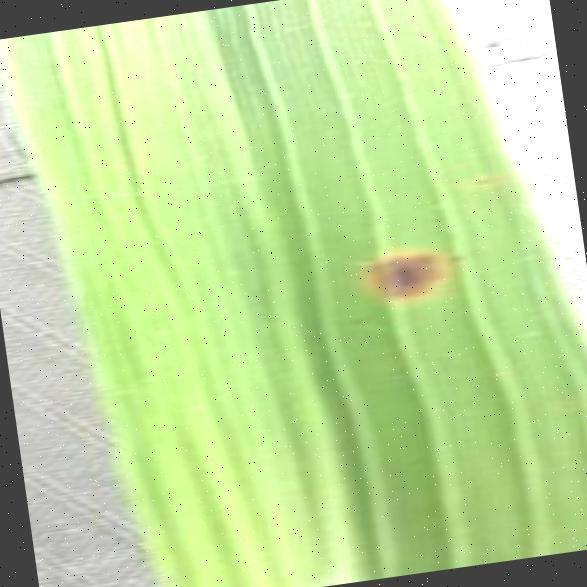Brown_Spot: (337, 224, 460, 329), (460, 166, 498, 193), (441, 240, 468, 267)
